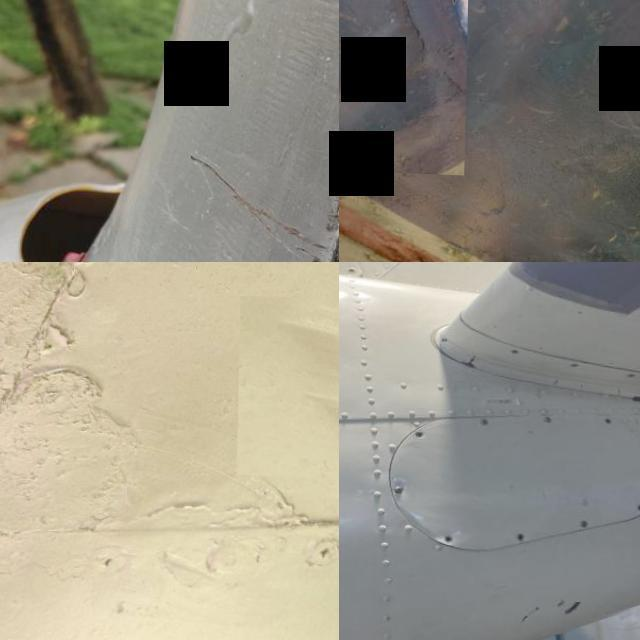Dent: (339, 0, 469, 172), (238, 293, 339, 478)
Missing_Fastener: (444, 532, 459, 544), (516, 530, 530, 540), (347, 265, 361, 274), (414, 429, 428, 437), (628, 368, 640, 376), (606, 414, 616, 422), (512, 347, 522, 352), (570, 360, 582, 364), (635, 499, 640, 508)
